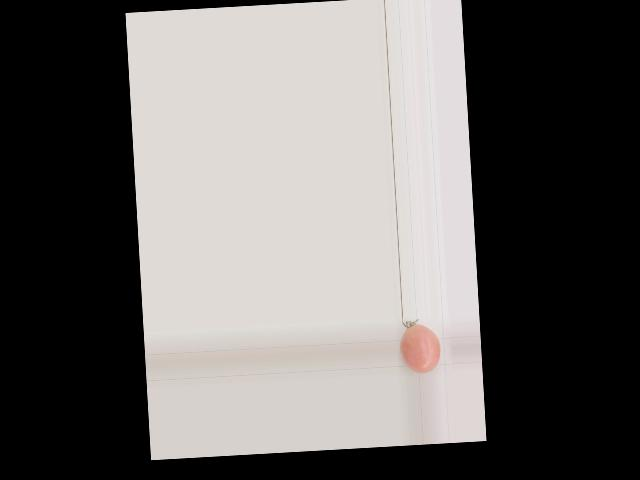tomato: (398, 323, 441, 374)
